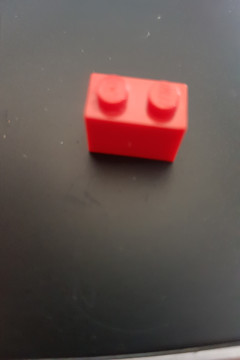1x2 red: (84, 70, 189, 169)
